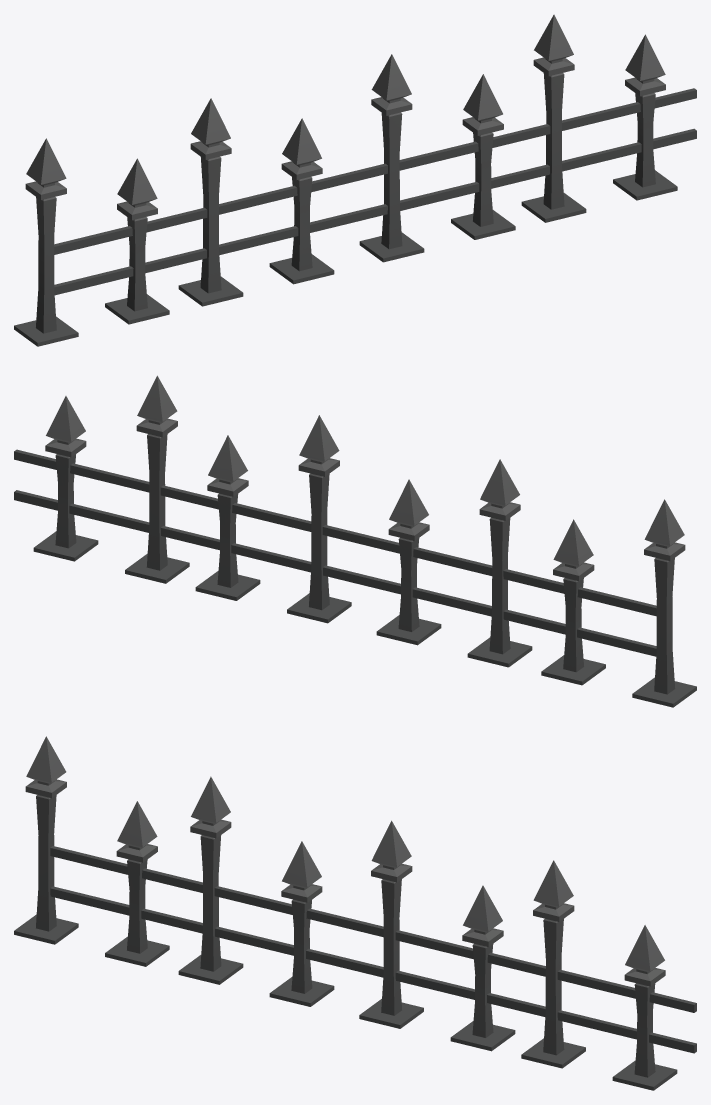
Rendered from graveyard_hedge.fbx.
3 renders of one model, top to bottom at view 1: azimuth 30°, elevation 25°; view 2: azimuth 150°, elevation 25°; view 3: azimuth 330°, elevation 25°, orthographic.
Visible parts, largest first — view 1: pCube6, pCube2, pCube7, pCube5, pCube10, pCube3, pCube8, pCube4, pCube9, pCube1; view 2: pCube6, pCube2, pCube7, pCube5, pCube10, pCube3, pCube8, pCube4, pCube1, pCube9; view 3: pCube6, pCube2, pCube7, pCube5, pCube10, pCube3, pCube8, pCube4, pCube1, pCube9.
Boxes of the visible parts, x1,y1,x2,y2 form: pCube6: (54, 128, 696, 295); pCube2: (54, 88, 696, 254); pCube7: (14, 138, 78, 346); pCube5: (359, 54, 424, 262); pCube10: (521, 14, 586, 222); pCube3: (178, 98, 243, 306); pCube8: (105, 158, 169, 324); pCube4: (451, 74, 515, 239); pCube9: (613, 34, 677, 200); pCube1: (269, 118, 334, 284); pCube6: (14, 490, 656, 656); pCube2: (14, 449, 656, 616); pCube7: (632, 499, 696, 707); pCube5: (287, 415, 351, 623); pCube10: (125, 375, 189, 583); pCube3: (467, 459, 532, 667); pCube8: (541, 519, 605, 685); pCube4: (195, 435, 260, 600); pCube1: (376, 479, 441, 645); pCube9: (33, 396, 98, 561); pCube6: (50, 886, 696, 1053); pCube2: (50, 846, 696, 1012); pCube7: (14, 736, 78, 944); pCube5: (359, 820, 423, 1028); pCube10: (521, 860, 585, 1068); pCube3: (178, 776, 243, 984); pCube8: (105, 801, 169, 966); pCube4: (450, 885, 515, 1051); pCube1: (269, 841, 334, 1006); pCube9: (612, 925, 677, 1090).
Bounding box in the file's own units: 88 × 24.49 × 5.39.
